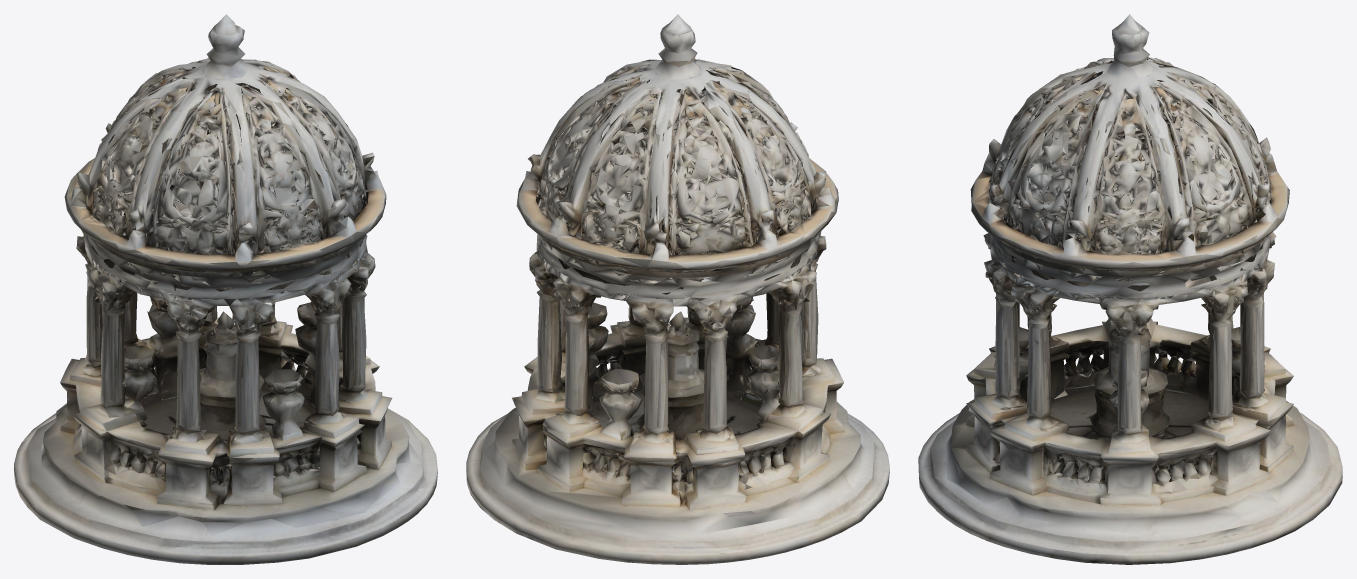
Rendered from Marble_Pavilion.glb.
The picture shows the model from 3 angles, left to right: view 1: azimuth 30°, elevation 25°; view 2: azimuth 150°, elevation 25°; view 3: azimuth 270°, elevation 25°; orthographic projection.
Visible parts, largest first — view 1: Marble_Pavilion; view 2: Marble_Pavilion; view 3: Marble_Pavilion.
Boxes of the visible parts, box(x1,y1,x2,y2) form: Marble_Pavilion: box(14, 14, 437, 564); Marble_Pavilion: box(466, 14, 889, 564); Marble_Pavilion: box(918, 14, 1342, 564).
Bounding box in the file's own units: 1.6 × 1.91 × 1.6.
Materials: 1 (1 with a texture image).
